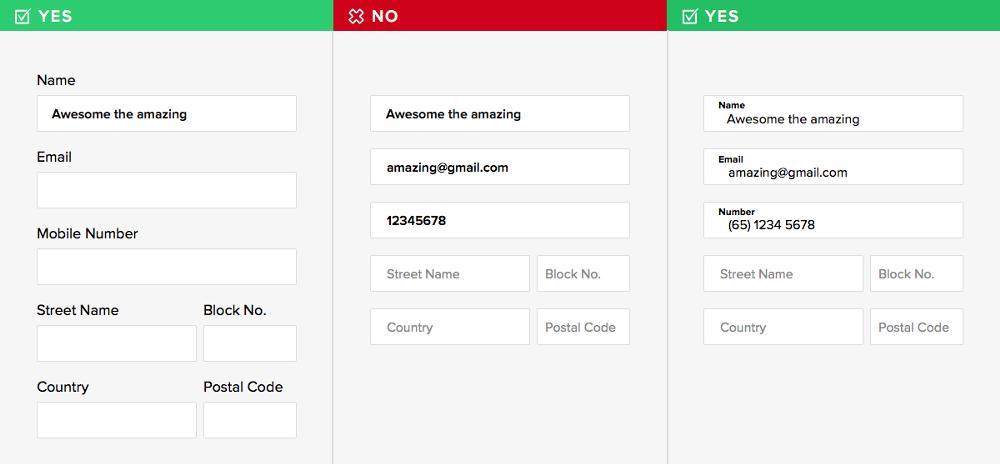input: (38, 93, 297, 135), (703, 95, 964, 134), (372, 94, 632, 133), (372, 202, 631, 241), (705, 202, 965, 240), (705, 149, 964, 186), (37, 173, 299, 207), (39, 248, 298, 282), (371, 150, 630, 183), (371, 309, 532, 348), (372, 255, 531, 294), (705, 309, 865, 347), (39, 327, 198, 365), (38, 403, 198, 440), (706, 257, 866, 294), (204, 402, 297, 441), (206, 328, 299, 366), (871, 255, 964, 293), (871, 309, 964, 347), (538, 309, 632, 346), (538, 256, 631, 293)
label: (36, 223, 142, 242), (202, 377, 286, 396), (36, 302, 121, 320), (33, 377, 93, 398), (204, 302, 269, 319), (36, 70, 80, 90), (32, 149, 76, 167)
